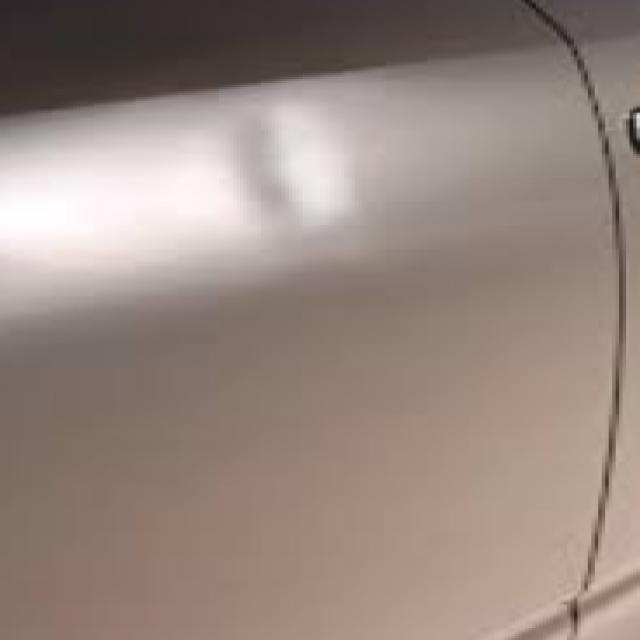dents: (198, 86, 454, 275)
